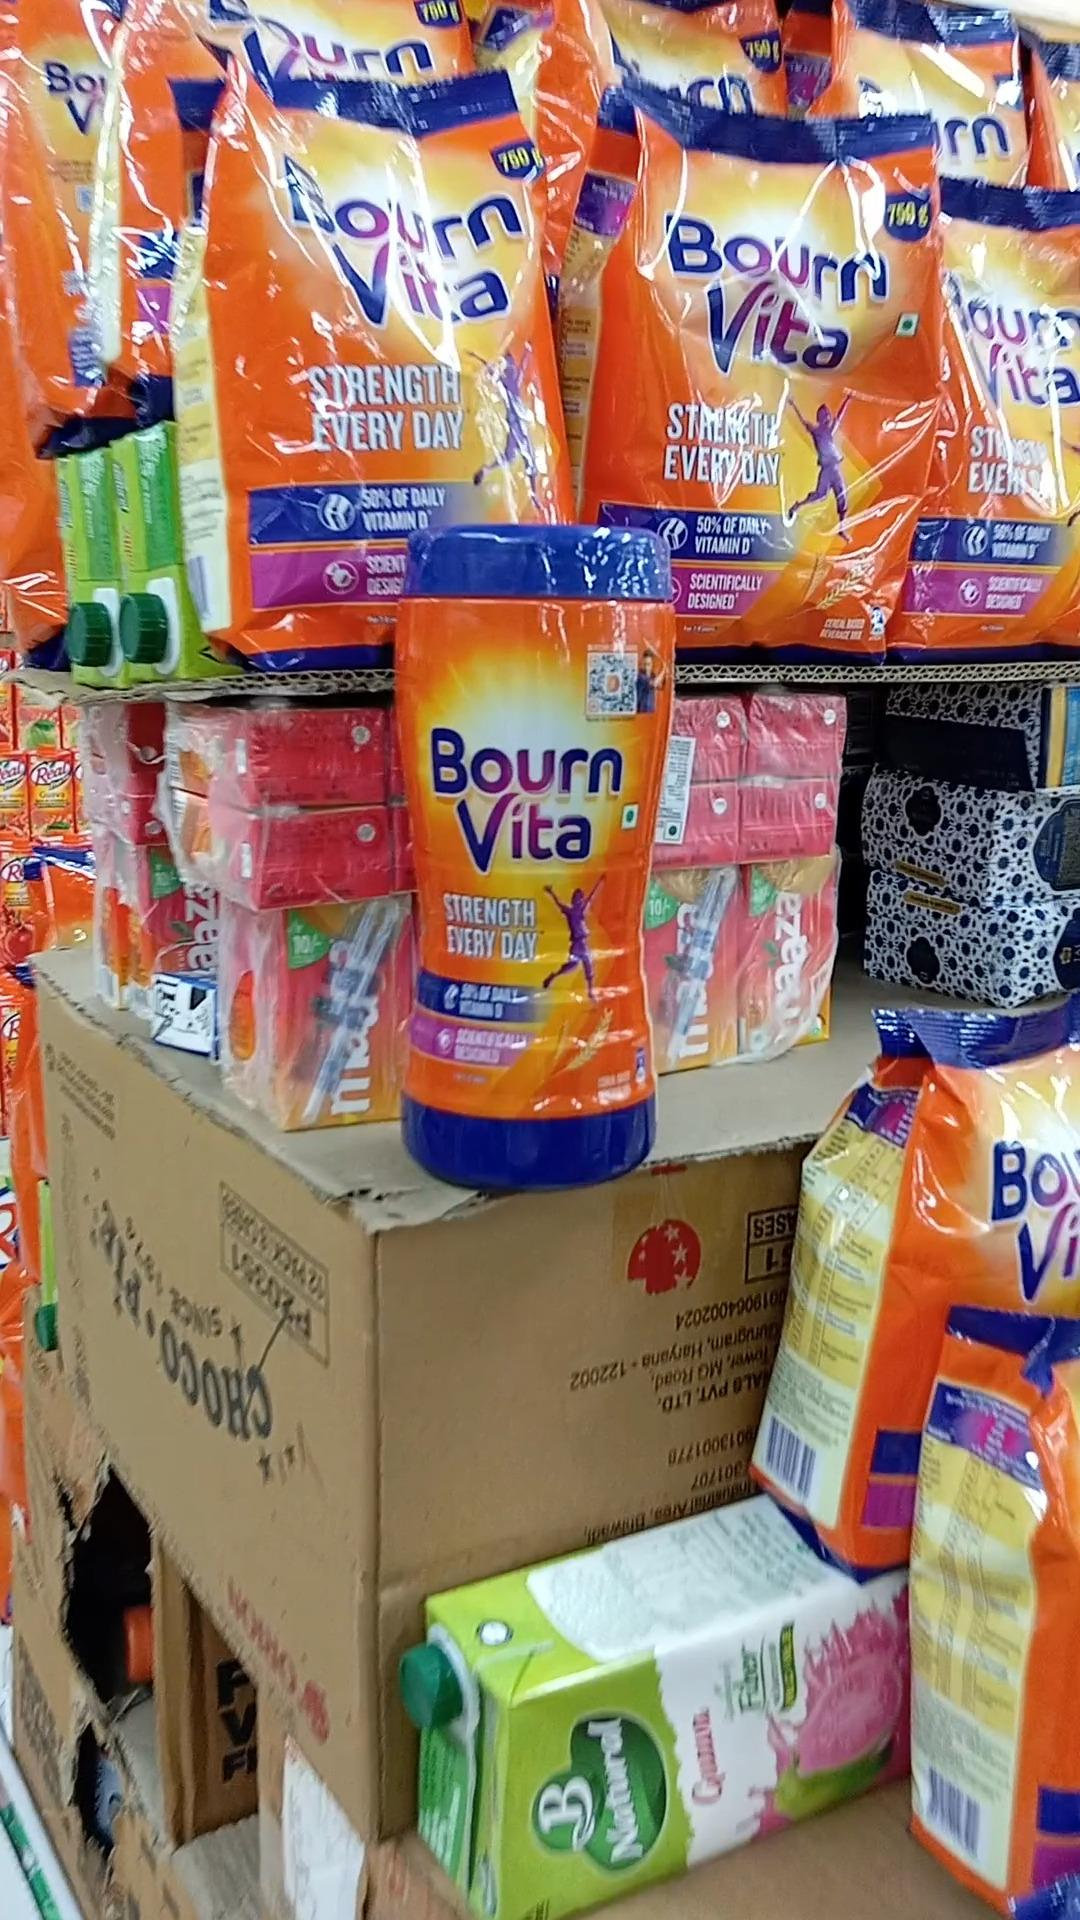COMPLAN_CHOCOLATE_200_GMS_JAR: (394, 493, 646, 1199)
